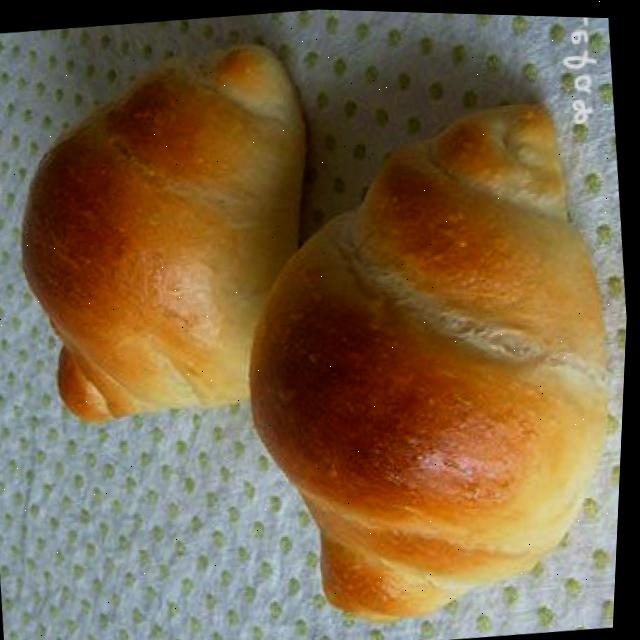面包点心: (204, 48, 620, 640), (0, 22, 346, 438)
